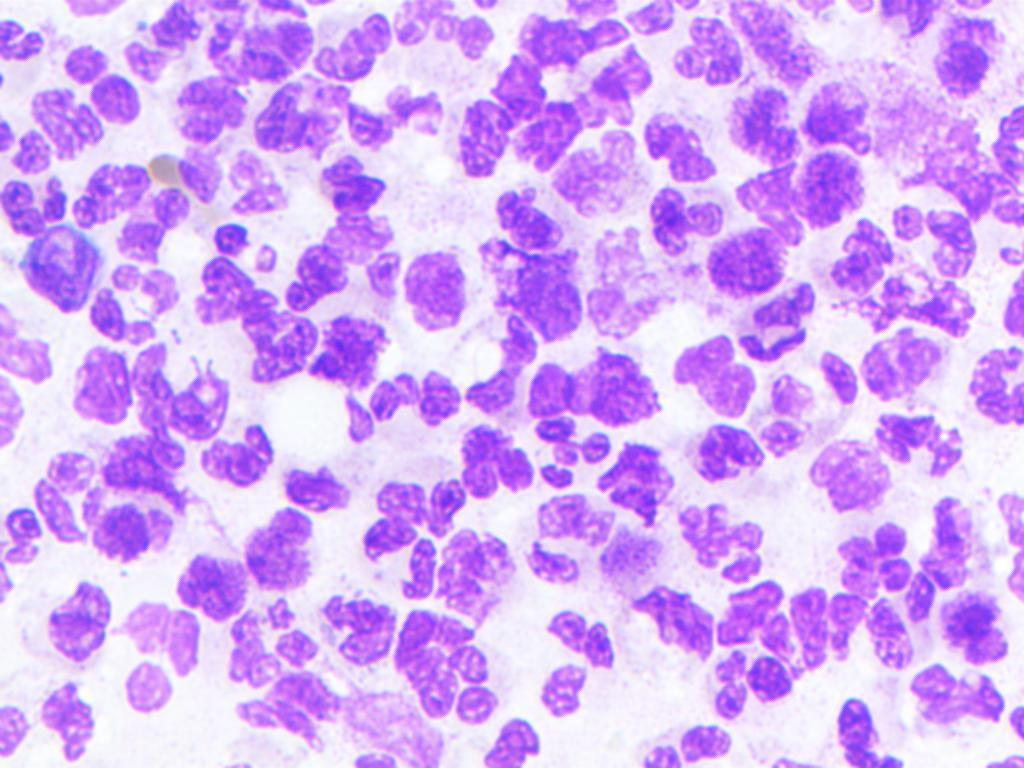erythrocyte: (146, 150, 193, 190)
neutrophil: (41, 420, 178, 582), (189, 250, 320, 388), (475, 186, 592, 338), (393, 590, 504, 742), (517, 42, 651, 163), (619, 96, 736, 208), (621, 564, 742, 670), (527, 492, 667, 579), (355, 462, 458, 580), (123, 578, 210, 716), (23, 426, 122, 546), (281, 156, 394, 260), (815, 330, 948, 414), (229, 588, 330, 698), (241, 58, 352, 158), (811, 216, 908, 328), (667, 490, 780, 584), (334, 369, 464, 450), (557, 330, 664, 428), (433, 88, 534, 190), (795, 62, 884, 174), (539, 580, 630, 688), (527, 402, 624, 500), (903, 491, 977, 619), (132, 339, 236, 429), (799, 428, 898, 522), (899, 644, 1002, 734), (17, 80, 126, 164), (27, 682, 133, 768), (35, 564, 118, 672), (827, 516, 920, 612), (659, 324, 758, 414), (627, 178, 734, 260), (204, 0, 317, 77), (83, 260, 182, 346), (309, 308, 398, 402), (541, 128, 643, 210), (61, 44, 164, 124), (719, 86, 819, 168), (233, 674, 338, 752), (449, 416, 536, 510), (780, 576, 865, 672), (469, 309, 543, 419), (233, 498, 320, 590), (722, 3, 821, 83), (301, 6, 402, 84), (69, 154, 158, 240), (598, 436, 682, 523), (667, 10, 750, 98), (197, 418, 286, 498), (888, 200, 976, 280), (444, 527, 518, 622), (740, 277, 820, 364), (393, 3, 499, 68), (403, 242, 476, 336), (531, 652, 604, 746), (926, 18, 1007, 101), (356, 76, 449, 148), (868, 414, 966, 482), (825, 696, 916, 768), (703, 222, 794, 294), (519, 11, 631, 66), (31, 232, 101, 318), (713, 651, 796, 723), (271, 458, 358, 526), (174, 72, 258, 142), (937, 594, 1012, 668), (689, 419, 767, 490), (981, 109, 1024, 233), (122, 181, 194, 253), (333, 583, 398, 662), (0, 308, 63, 388), (638, 721, 743, 768), (70, 342, 130, 419), (209, 213, 290, 270), (233, 142, 294, 217), (969, 343, 1024, 426), (904, 281, 977, 340), (0, 171, 72, 228), (761, 364, 804, 458), (496, 43, 549, 111), (870, 600, 913, 679), (0, 23, 61, 69)
